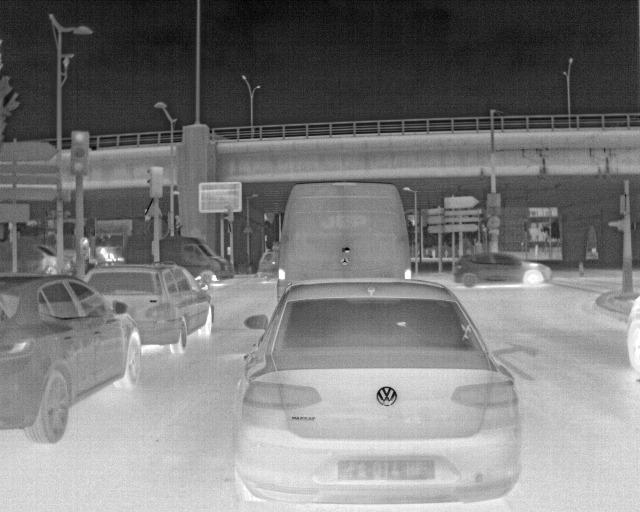car: (232, 279, 521, 511), (0, 272, 142, 444), (275, 183, 413, 307), (80, 262, 214, 356), (123, 234, 235, 281), (452, 252, 553, 287), (1, 243, 72, 278), (626, 293, 639, 374), (257, 249, 280, 281), (94, 247, 126, 263)
light: (71, 132, 89, 174), (146, 167, 163, 198), (80, 237, 89, 261), (608, 220, 622, 231), (620, 195, 625, 214), (48, 220, 55, 229)
sign: (198, 182, 242, 213), (0, 142, 59, 163), (0, 186, 61, 202), (0, 164, 59, 174), (0, 203, 31, 222), (0, 176, 58, 184), (444, 196, 479, 209), (445, 224, 478, 232), (444, 210, 482, 216), (444, 217, 481, 222), (486, 193, 500, 206), (487, 216, 501, 228), (428, 216, 444, 224), (427, 226, 445, 233), (243, 225, 254, 234), (428, 209, 444, 215)
